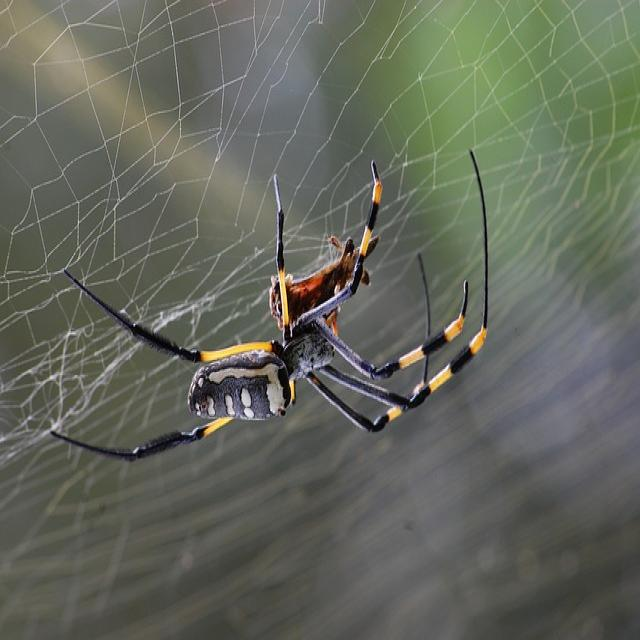spyder: (61, 170, 488, 434), (48, 422, 227, 462)
